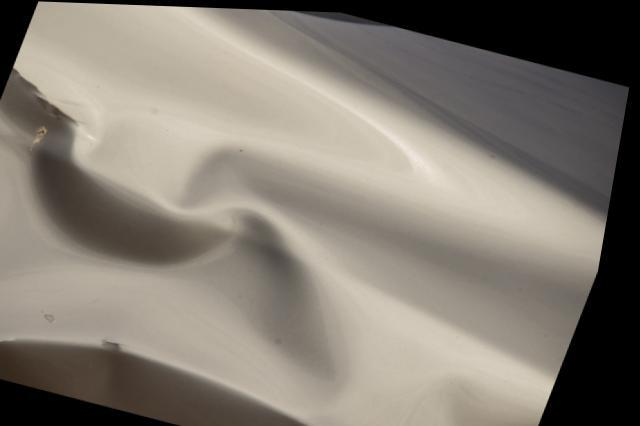dent: (0, 1, 567, 426)
